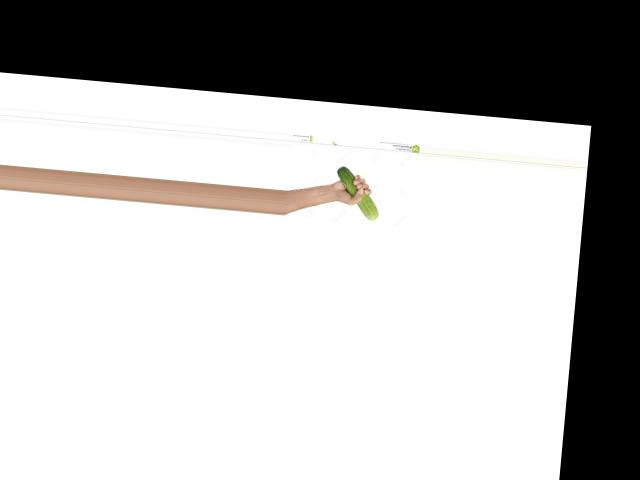cucumber: (331, 165, 381, 220)
